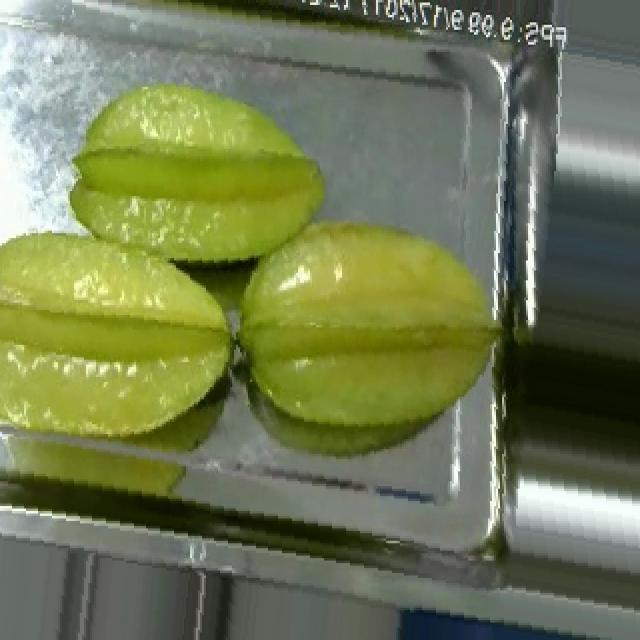fruit: (214, 183, 510, 464), (42, 52, 348, 303), (0, 191, 256, 476)
